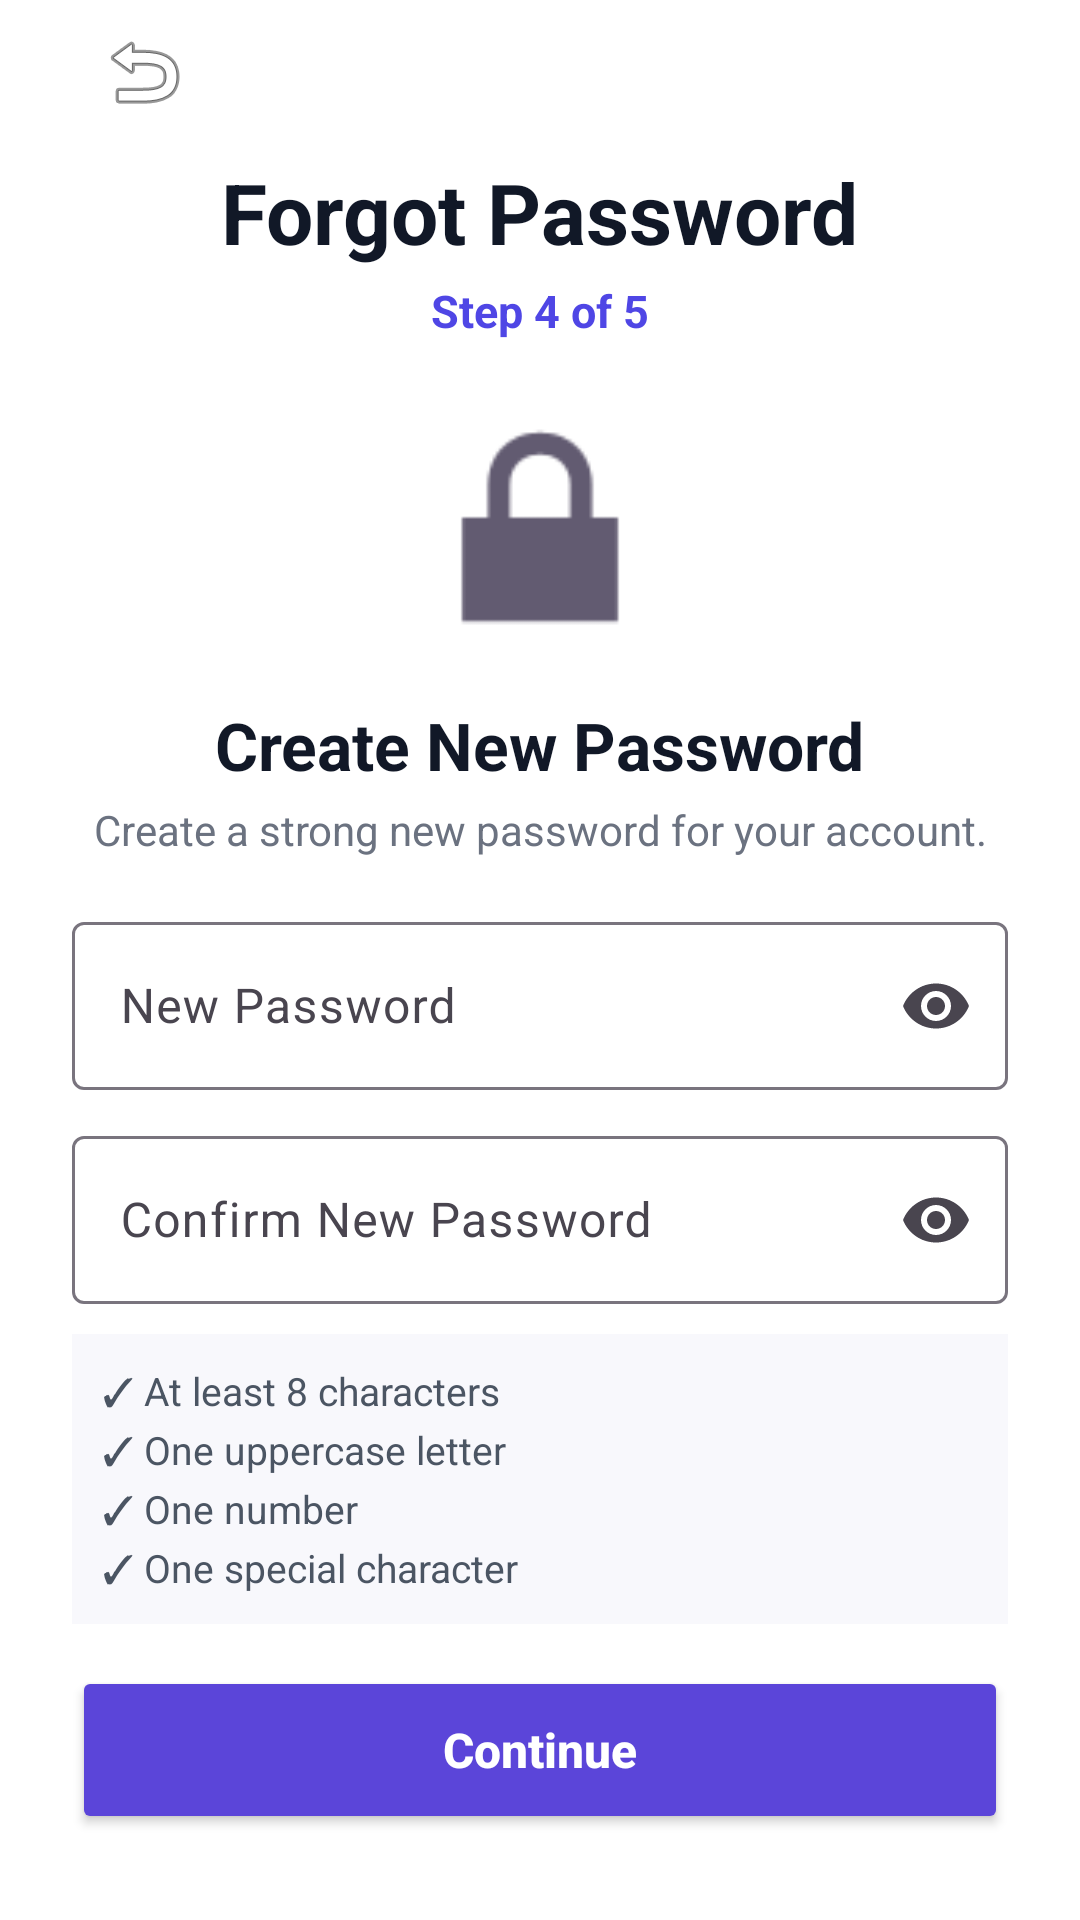

Named icons in this screenshot (1080 x 1920) and their centers, (x,y):
Back: (145,72)
